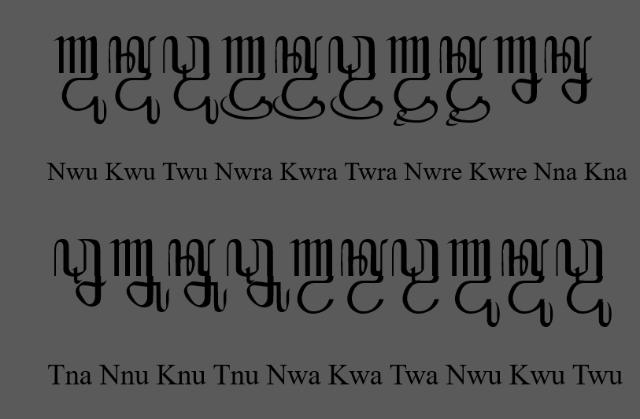Kn: (544, 36, 592, 104)
Knu: (168, 238, 228, 314)
Kw: (340, 238, 390, 315)
Kwr: (272, 36, 326, 121)
Kwre: (439, 35, 491, 127)
Kwu: (108, 35, 160, 125), (501, 238, 553, 328)
Nn: (492, 36, 544, 104)
Nnu: (108, 238, 170, 314)
Nw: (289, 239, 335, 315)
Nwr: (220, 36, 274, 121)
Nwre: (386, 36, 438, 128)
Nwu: (446, 238, 500, 328), (53, 36, 107, 124)
Tn: (53, 238, 107, 308)
Tnu: (226, 238, 292, 314)
Tw: (392, 238, 441, 316)
Twr: (328, 35, 384, 121)
Twu: (556, 238, 612, 330), (163, 35, 219, 125)
